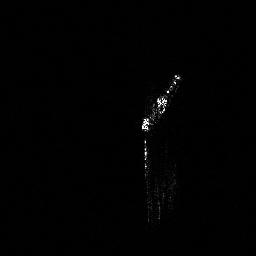ship: (137, 71, 185, 136)
